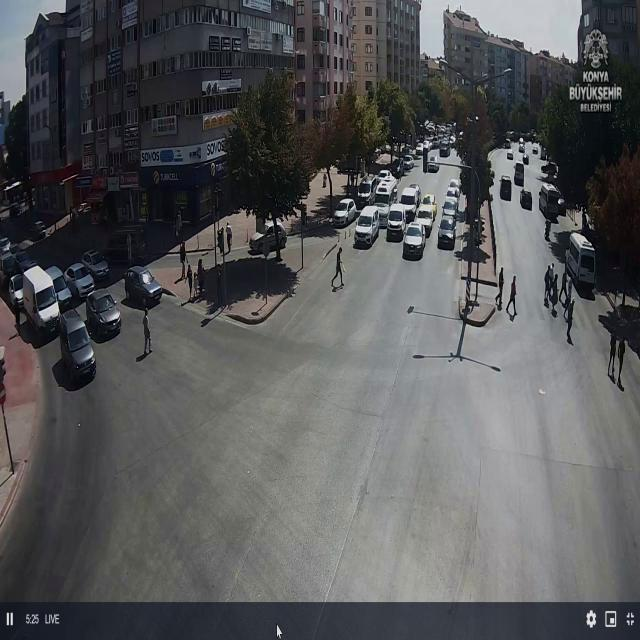Bus: (566, 233, 596, 288), (372, 176, 396, 227), (539, 184, 561, 218)
Car: (57, 310, 96, 382), (86, 287, 122, 334), (124, 266, 162, 306), (250, 220, 287, 253), (354, 204, 382, 246), (64, 262, 95, 299), (46, 266, 73, 306), (79, 250, 110, 281), (402, 222, 427, 258), (386, 203, 410, 239), (333, 198, 359, 227), (398, 186, 421, 218), (357, 175, 379, 208), (414, 206, 436, 237), (437, 216, 457, 248), (8, 273, 24, 309), (441, 200, 459, 222), (445, 186, 461, 207), (499, 176, 512, 200), (520, 188, 532, 210), (400, 154, 414, 171), (514, 163, 524, 186), (448, 178, 460, 194), (440, 144, 450, 157), (415, 144, 424, 156), (506, 149, 514, 159), (522, 154, 529, 164)
Truck: (24, 266, 60, 332)
